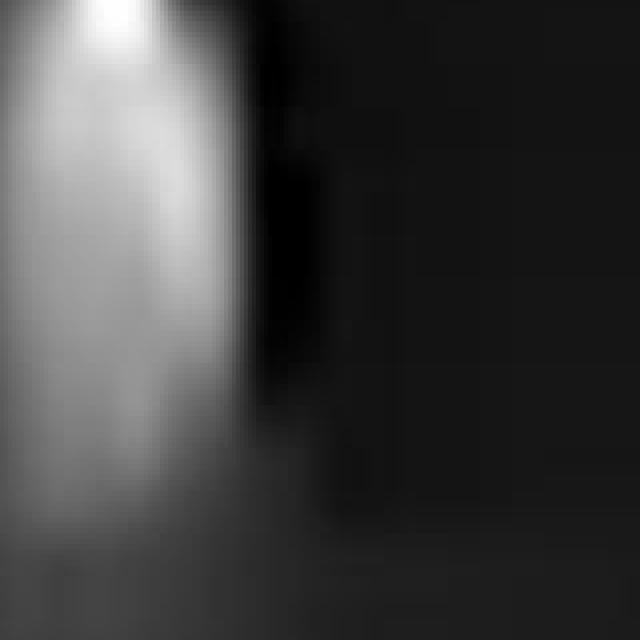person: (1, 1, 261, 513)
